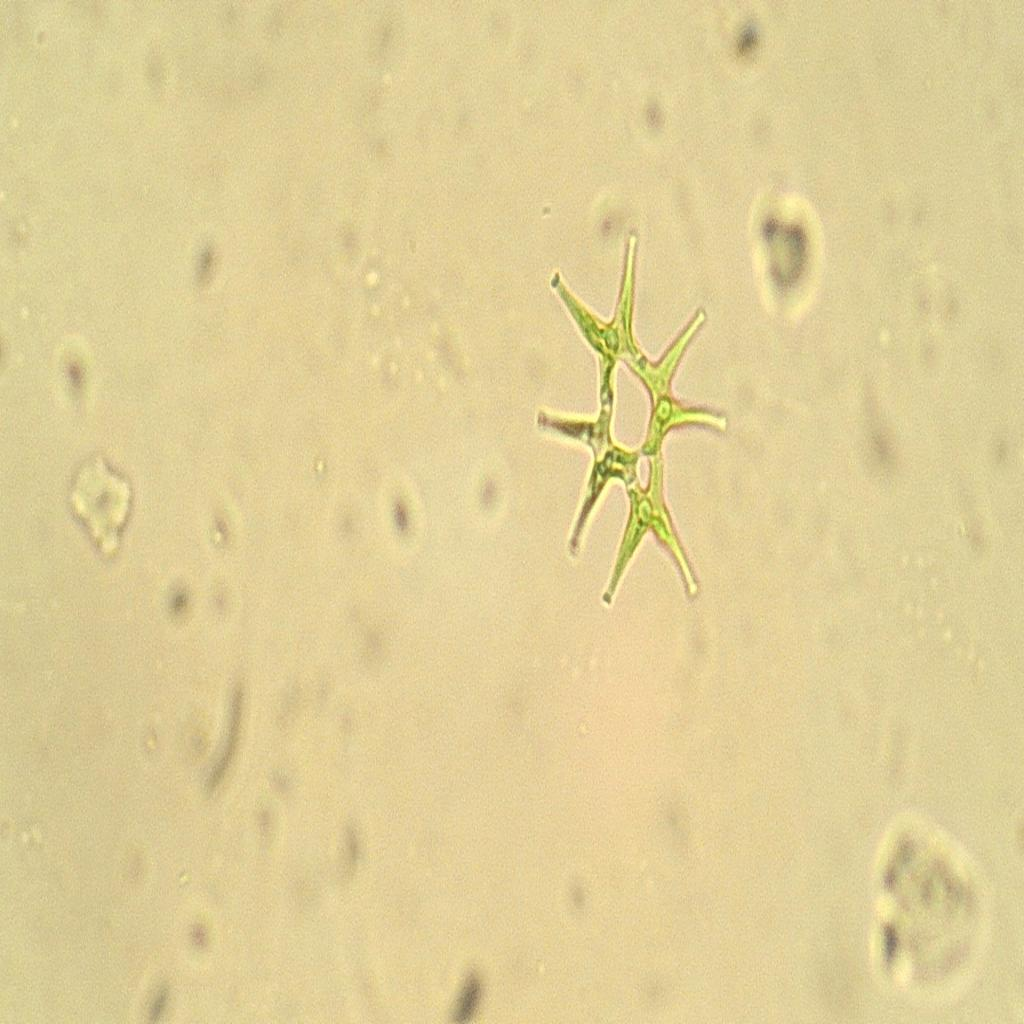Pediastrum_CF: (522, 220, 738, 621)
